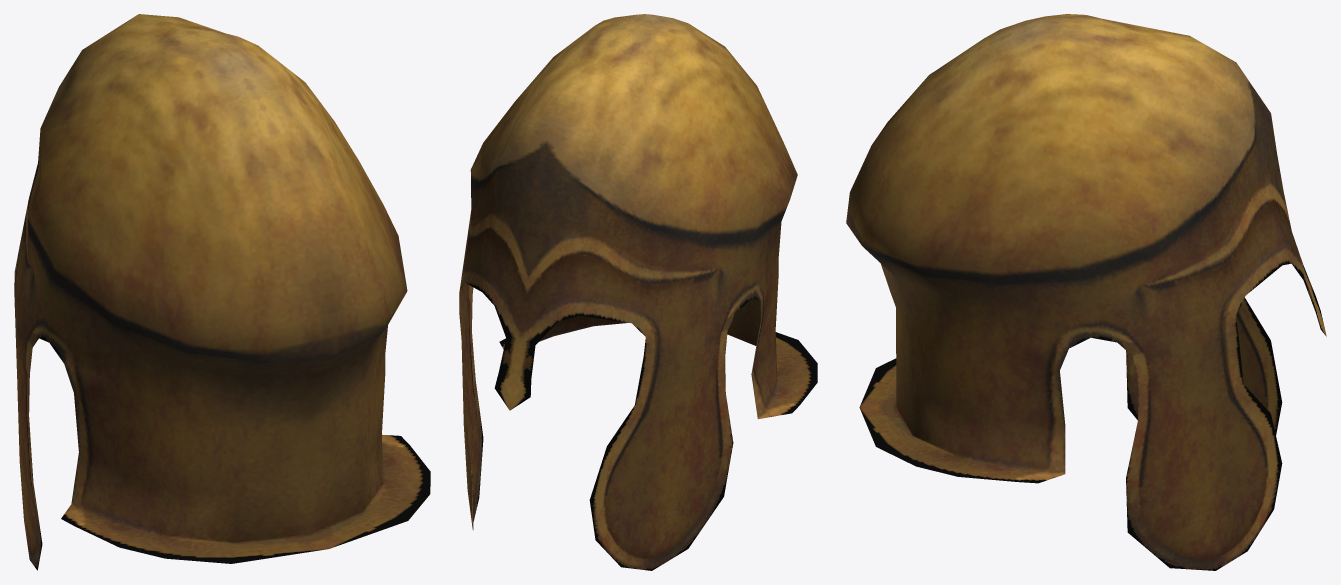
The model's file is helm_hele_chalcidean_b5.glb.
3 views of the same model, side by side, from view 1: azimuth 30°, elevation 25°; view 2: azimuth 150°, elevation 25°; view 3: azimuth 270°, elevation 25° (orthographic). The views are drawn at different scales.
Visible parts, largest first — view 1: helm_hele_chalcidean_b5_part0; view 2: helm_hele_chalcidean_b5_part0; view 3: helm_hele_chalcidean_b5_part0.
Boxes of the visible parts, x1,y1,x2,y2 form: helm_hele_chalcidean_b5_part0: (14,14,430,570); helm_hele_chalcidean_b5_part0: (459,14,817,570); helm_hele_chalcidean_b5_part0: (846,14,1326,570).
Bounding box in the file's own units: 0.4829 × 0.7477 × 0.6472.
Materials: 1 (1 with a texture image).
